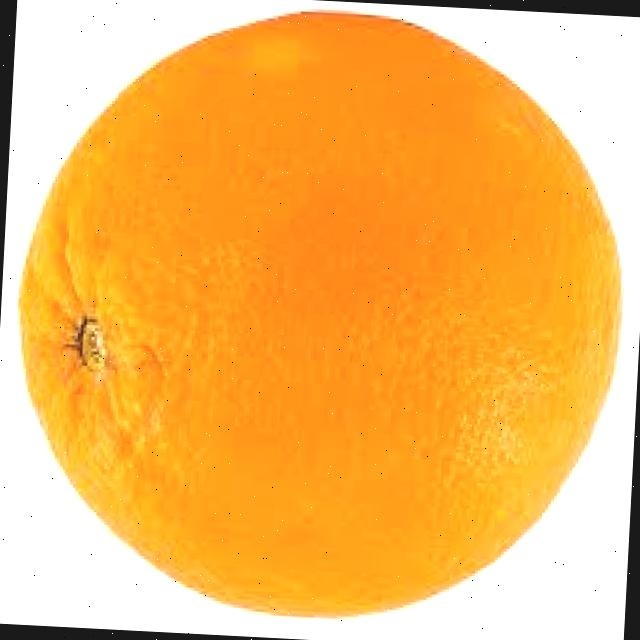orange: (0, 0, 631, 633)
